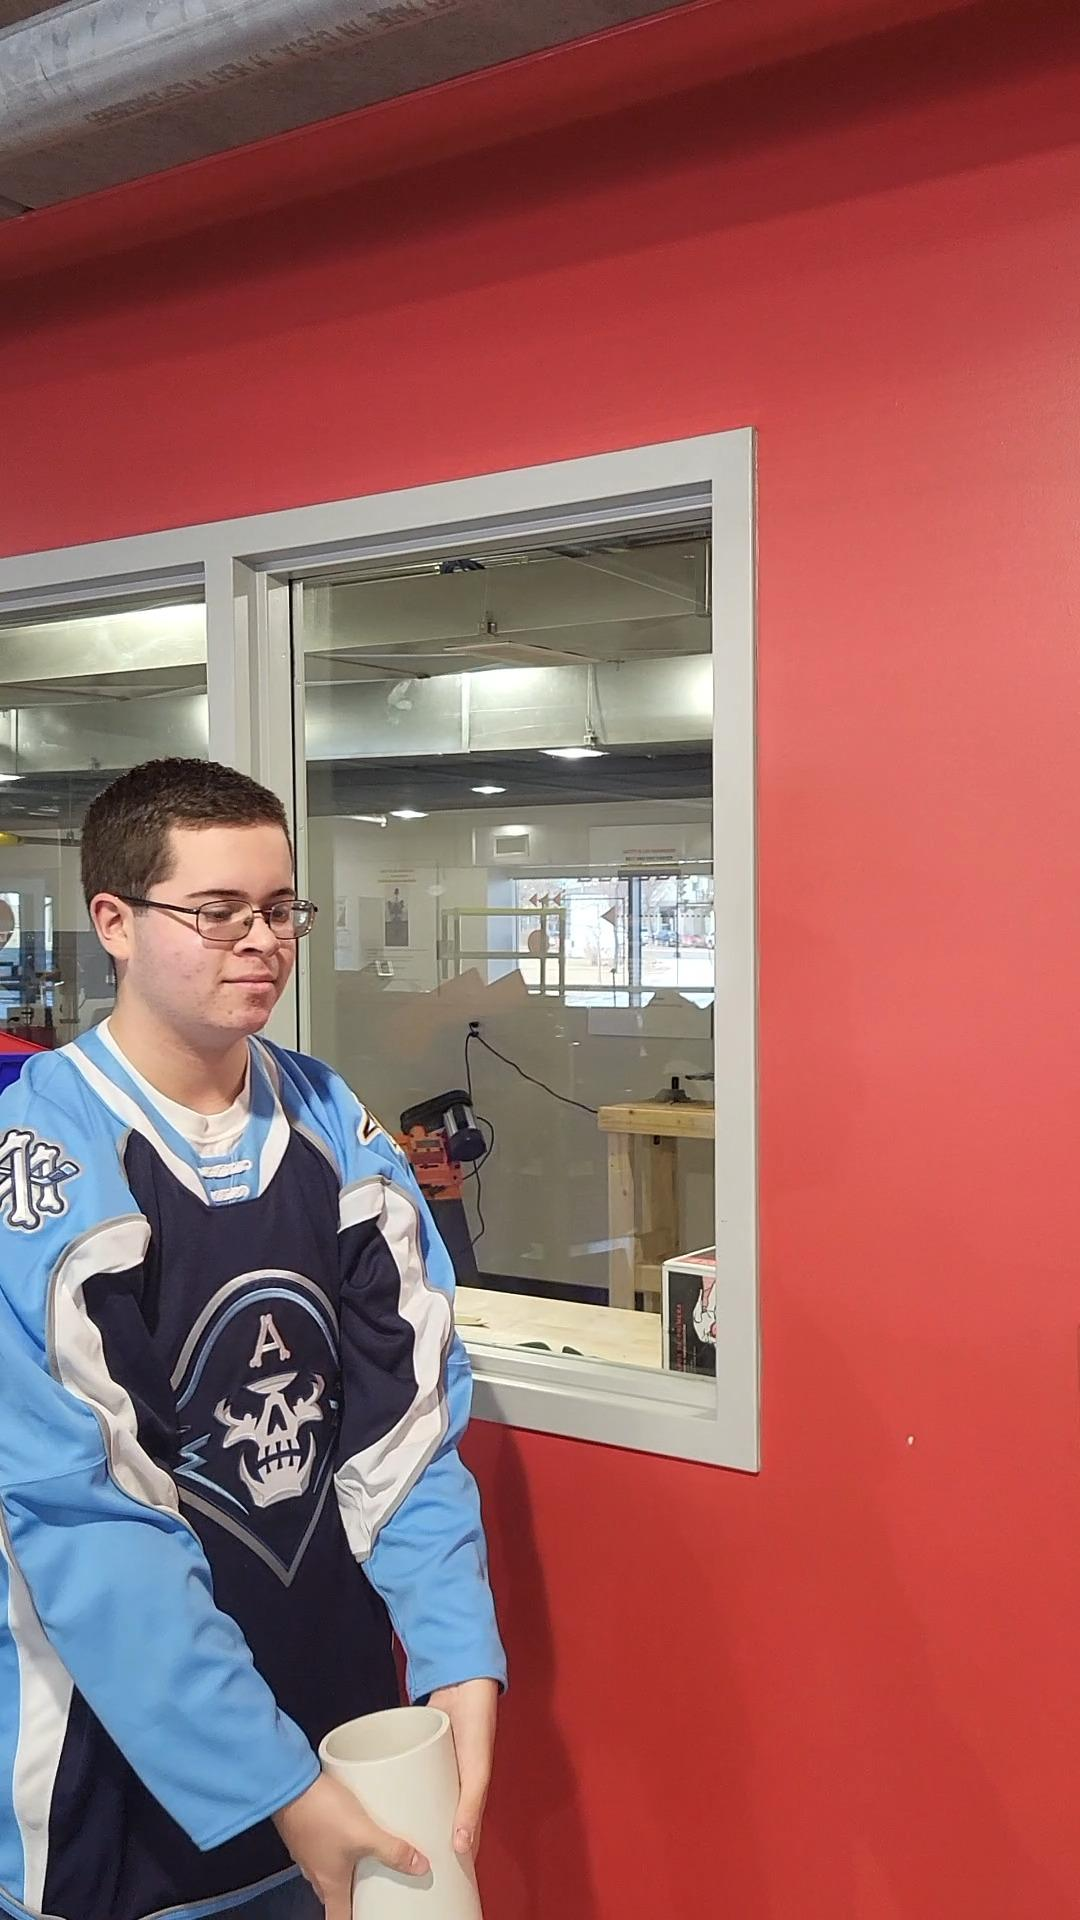coral: (316, 1704, 500, 1920)
